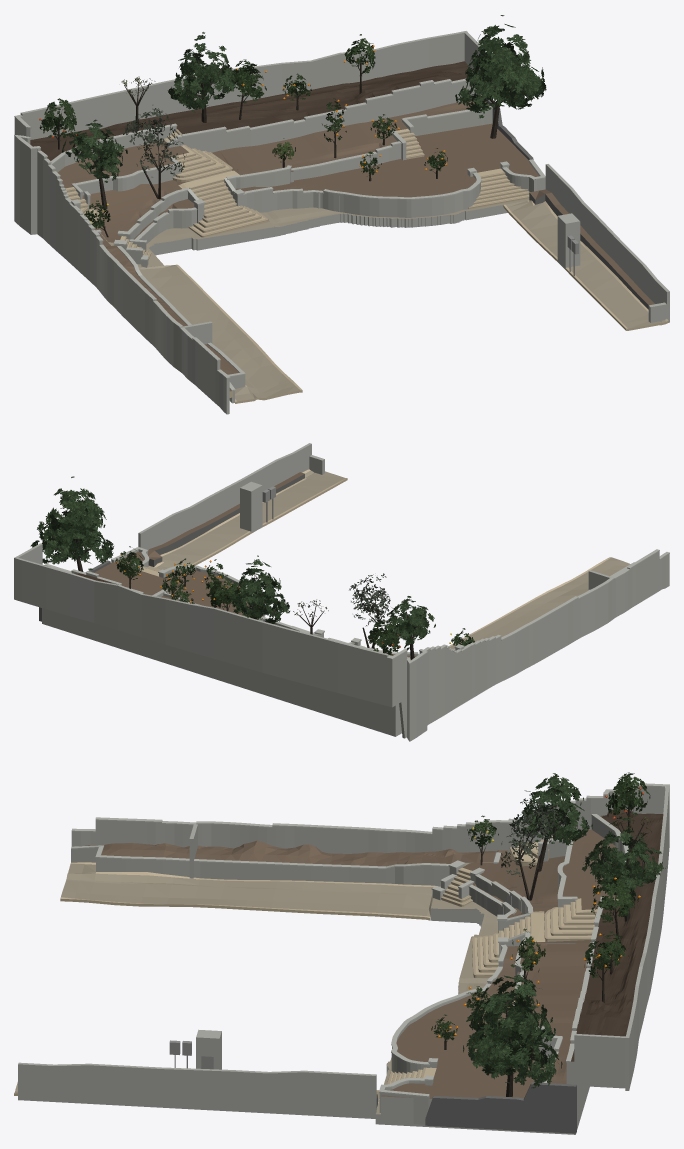
File: reconstruction-095ea52899db.glb
3 views of the same model, one above another, from view 1: azimuth 30°, elevation 25°; view 2: azimuth 150°, elevation 25°; view 3: azimuth 270°, elevation 25° (orthographic). The views are drawn at different scales.
Parts seen in each view (by area): view 1: ground-terraces, wall-west-boundary-rear, wall-rear-boundary, ground-side-west, wall-we, planting-tree-14, wall-wa, ground-side-east, wall-east-side-boundary, wall-wb, planting-tree-03, planting-tree-02 (+19 smaller); view 2: wall-rear-boundary, wall-west-boundary-rear, ground-terraces, wall-east-side-boundary, planting-tree-14, ground-side-east, ground-side-west, planting-tree-03, planting-tree-02, planter-fill-east-side, planting-tree-01, coping-west-boundary-rear (+4 smaller); view 3: ground-terraces, ground-side-west, wall-east-side-boundary, wall-west-boundary-rear, planting-tree-14, wall-west-side-retaining, slot-filler-east, wall-rear-boundary, planting-tree-03, planting-tree-02, wall-rear-boundary-return-east, planting-tree-01 (+17 smaller).
Boxes of the visible parts, <box> form: ground-terraces: <box>30,61,538,267</box>; wall-west-boundary-rear: <box>14,117,229,414</box>; wall-rear-boundary: <box>20,31,467,139</box>; ground-side-west: <box>99,233,302,403</box>; wall-we: <box>182,81,481,152</box>; planting-tree-14: <box>455,15,546,138</box>; wall-wa: <box>99,162,545,243</box>; ground-side-east: <box>503,200,668,330</box>; wall-east-side-boundary: <box>545,164,669,322</box>; wall-wb: <box>130,108,492,239</box>; planting-tree-03: <box>167,32,237,122</box>; planting-tree-02: <box>62,119,127,208</box>; wall-rear-boundary: <box>14,557,388,705</box>; wall-west-boundary-rear: <box>387,551,669,741</box>; ground-terraces: <box>42,551,416,736</box>; wall-east-side-boundary: <box>138,443,324,549</box>; planting-tree-14: <box>30,476,113,571</box>; ground-side-east: <box>154,469,347,569</box>; ground-side-west: <box>449,557,630,649</box>; planting-tree-03: <box>229,555,289,623</box>; planting-tree-02: <box>383,596,435,659</box>; planter-fill-east-side: <box>148,472,304,566</box>; planting-tree-01: <box>349,573,398,648</box>; coping-west-boundary-rear: <box>387,549,669,664</box>; ground-terraces: <box>375,808,663,1134</box>; ground-side-west: <box>60,840,495,920</box>; wall-east-side-boundary: <box>18,1062,376,1118</box>; wall-west-boundary-rear: <box>71,786,669,863</box>; planting-tree-14: <box>463,964,562,1096</box>; wall-west-side-retaining: <box>71,848,449,886</box>; slot-filler-east: <box>425,1082,576,1133</box>; wall-rear-boundary: <box>625,785,669,1090</box>; planting-tree-03: <box>582,813,665,921</box>; planting-tree-02: <box>515,773,592,871</box>; wall-rear-boundary-return-east: <box>574,1033,625,1083</box>; planting-tree-01: <box>500,790,567,900</box>.
Bounding box in the file's own units: 36.25 × 10.62 × 35.19.
Materials: 18 (6 with a texture image).
